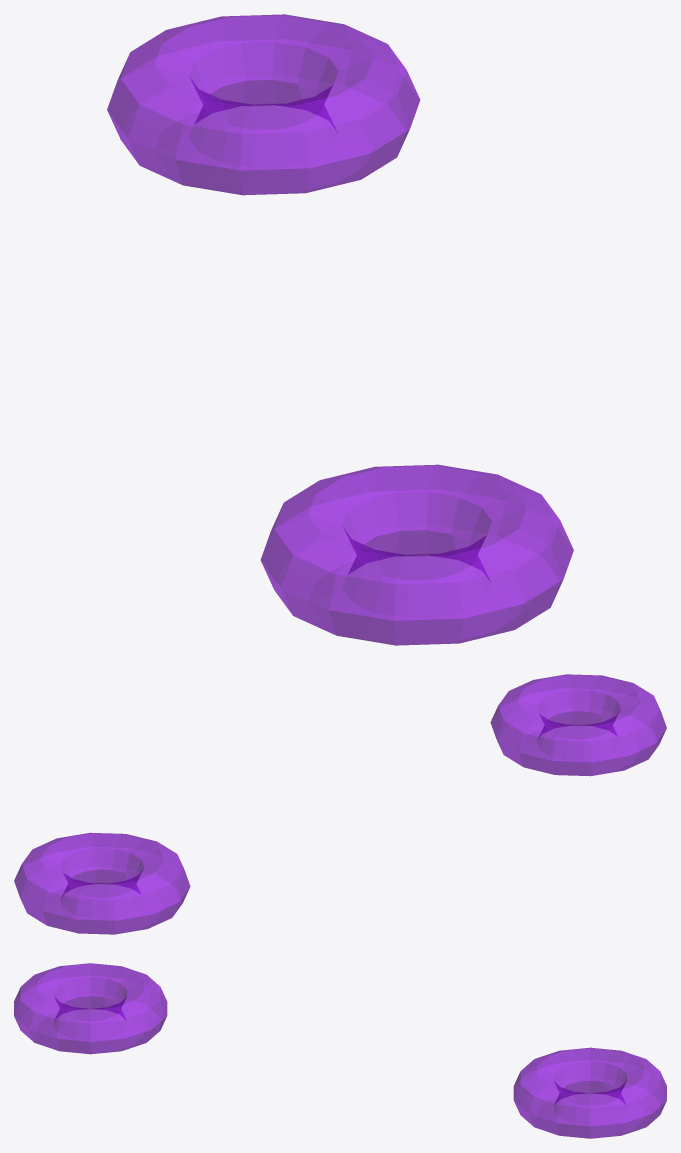
The model's file is (5)M GJump.fbx.
3 views of the same model, one above another, from view 1: azimuth 30°, elevation 25°; view 2: azimuth 150°, elevation 25°; view 3: azimuth 270°, elevation 25° (orthographic). The views are drawn at different scales.
Visible parts, largest first — view 1: GravityJump.004, GravityJump.005; view 2: GravityJump.004, GravityJump.005; view 3: GravityJump.004, GravityJump.005.
Boxes of the visible parts, bbox=[...] form: GravityJump.004: bbox=[260, 464, 573, 645]; GravityJump.005: bbox=[107, 14, 420, 195]; GravityJump.004: bbox=[490, 674, 666, 776]; GravityJump.005: bbox=[14, 832, 190, 934]; GravityJump.004: bbox=[14, 963, 167, 1054]; GravityJump.005: bbox=[513, 1047, 666, 1138].
Bounding box in the file's own units: 357 × 48.2 × 653.
